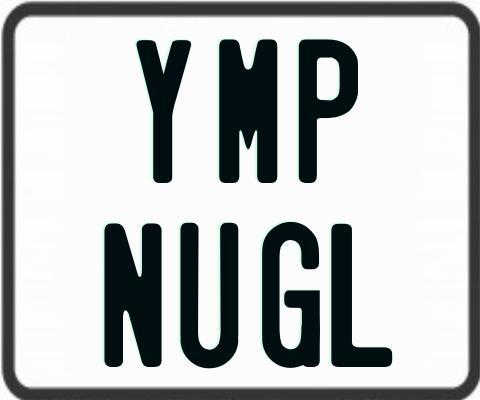G: (261, 219, 319, 369)
L: (331, 223, 392, 367)
M: (218, 36, 277, 182)
N: (101, 223, 160, 370)
P: (296, 37, 357, 185)
U: (180, 220, 239, 370)
Y: (133, 37, 193, 182)
